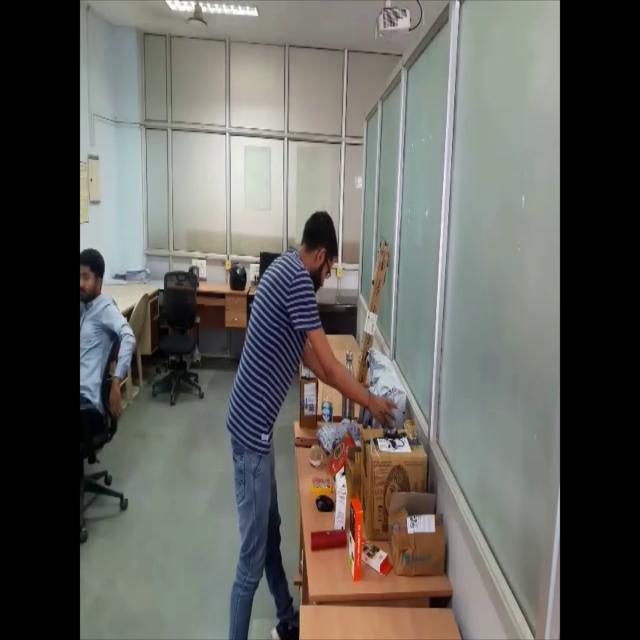normal: (222, 147, 395, 640)
